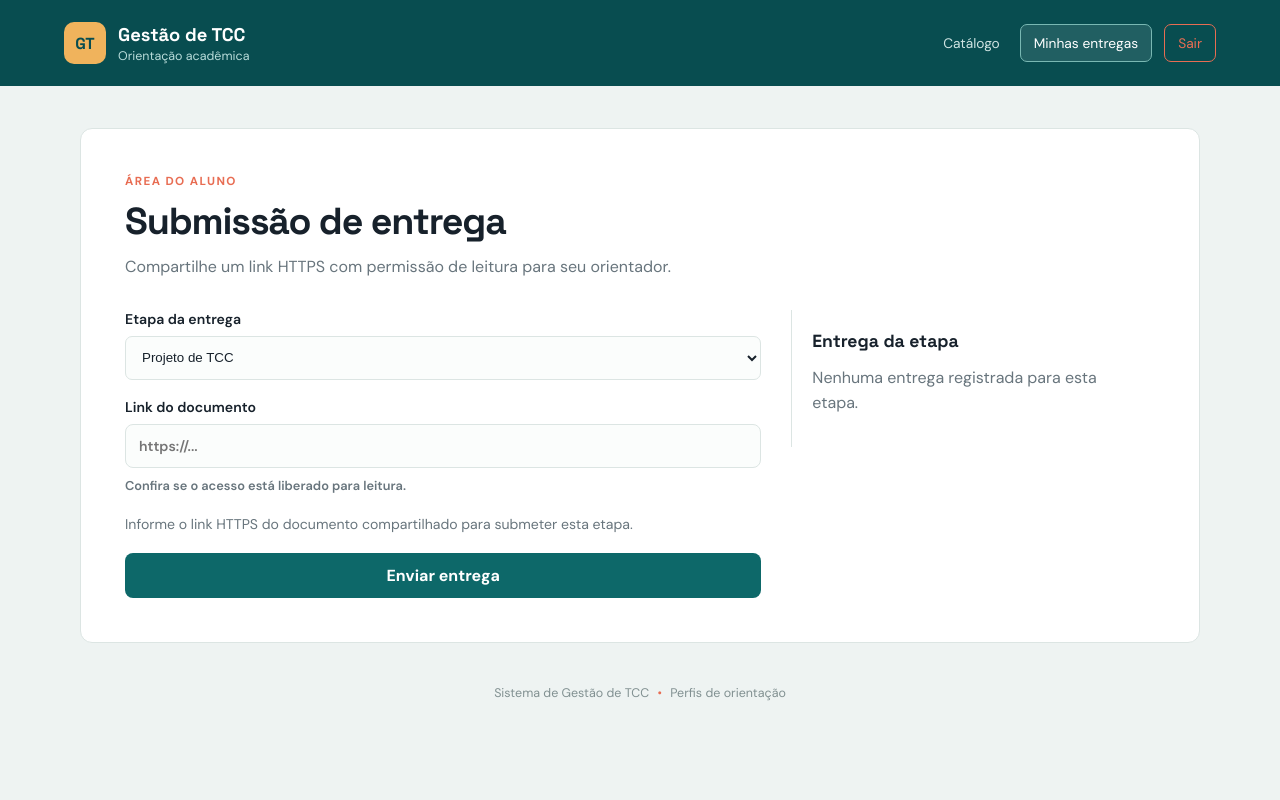
SubmissaoEntregaPage › exibe mensagem do backend quando retorna 422
Step 1. Type "https://documento.exemplo/tcc" into the field labelled "Link do documento" → [443, 446], box [125,424,761,468]
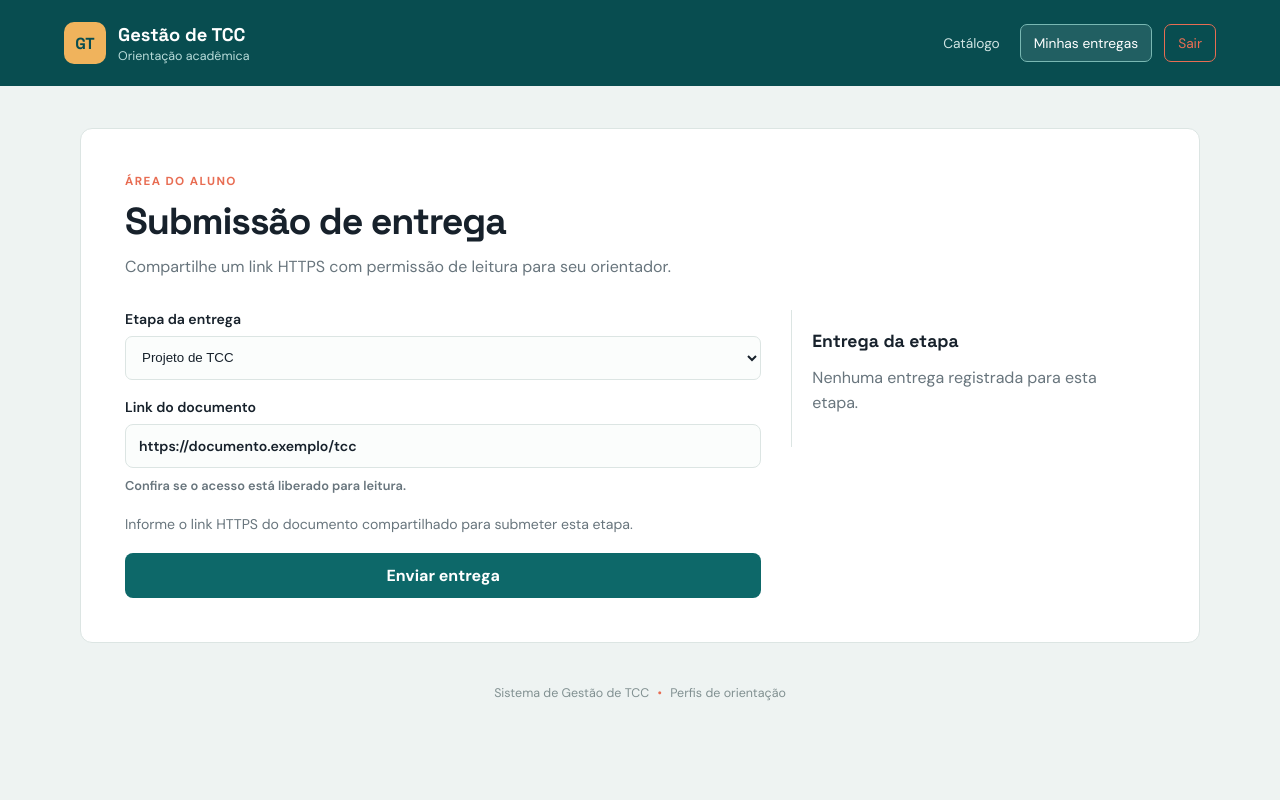
Step 2. Click the button "Enviar entrega" → [443, 576], box [125,553,761,598]
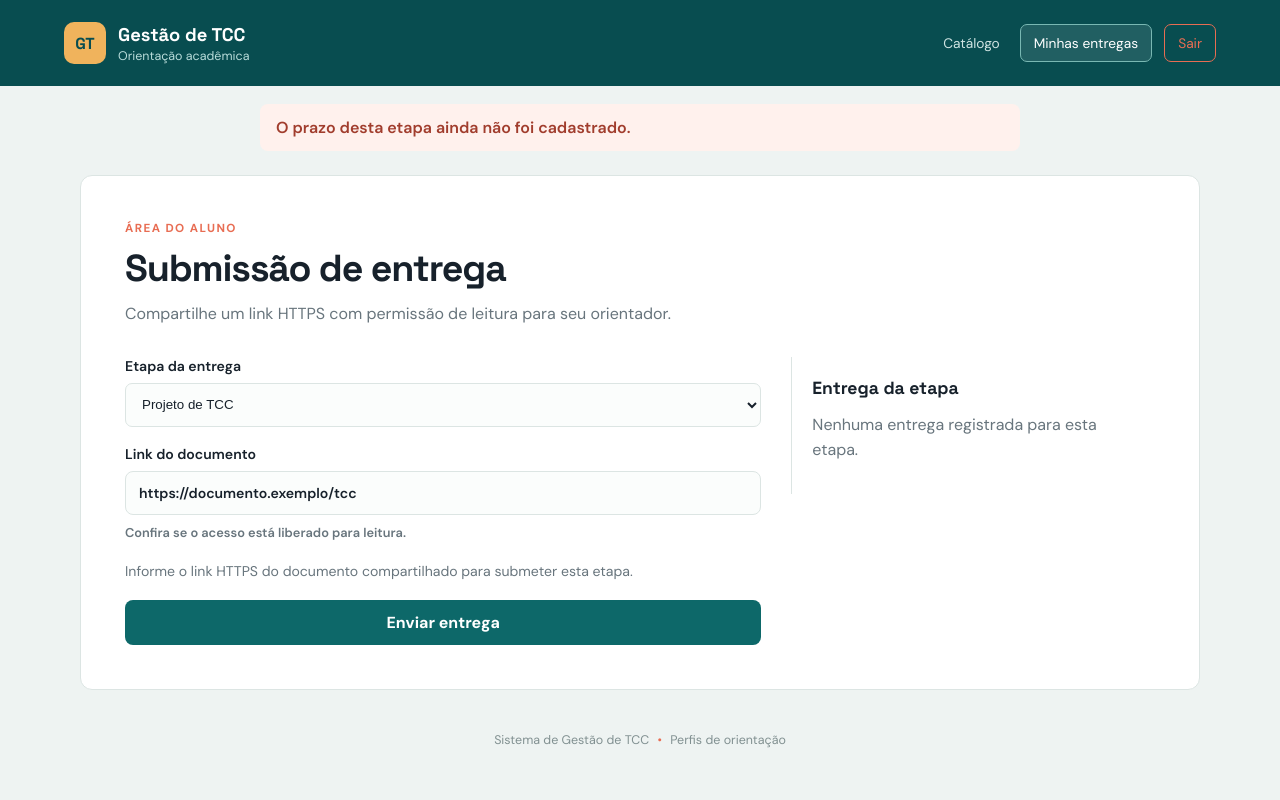
Result: the text "O prazo desta etapa ainda não foi cadastrado." is shown at [260,104,1020,151]
